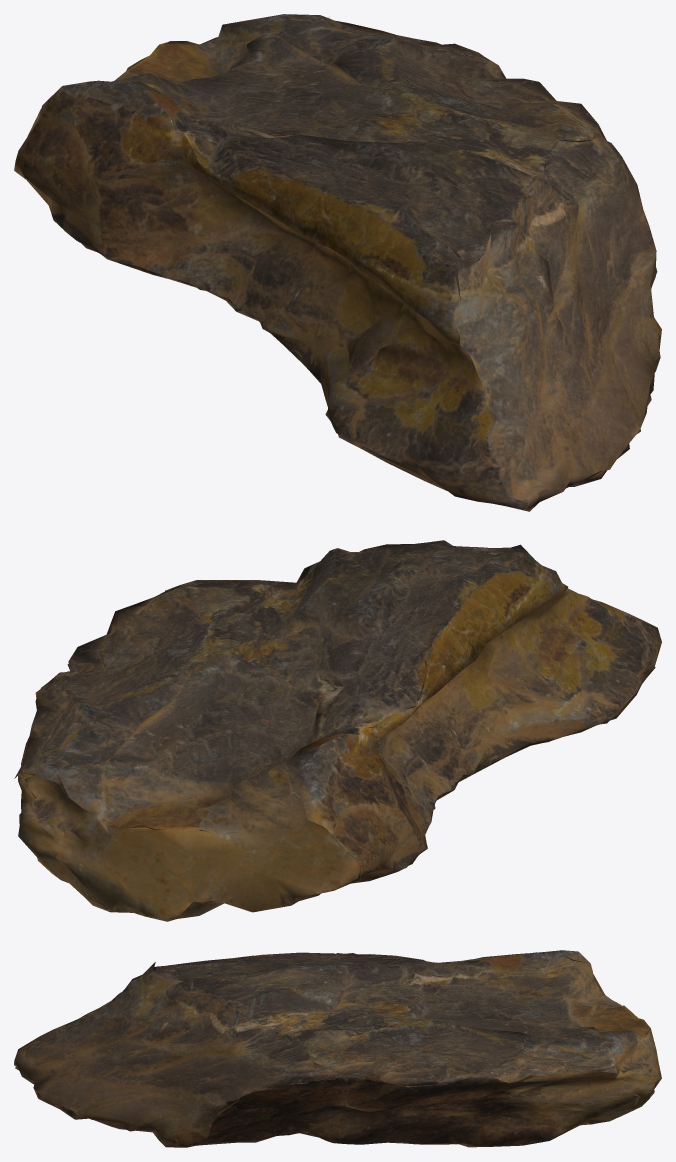
The model's file is coastal-rock.glb.
3 renders of one model, top to bottom at view 1: azimuth 30°, elevation 25°; view 2: azimuth 150°, elevation 25°; view 3: azimuth 270°, elevation 25°, orthographic. The views are drawn at different scales.
Parts seen in each view (by area): view 1: coastal-rock; view 2: coastal-rock; view 3: coastal-rock.
Part boxes in pixels (left/top/right/bottom): coastal-rock: left=14, top=14, right=661, bottom=511; coastal-rock: left=14, top=540, right=661, bottom=921; coastal-rock: left=14, top=950, right=661, bottom=1147.
Bounding box in the file's own units: 0.074 × 0.0326 × 0.1448.
1 material, 1 textured.
